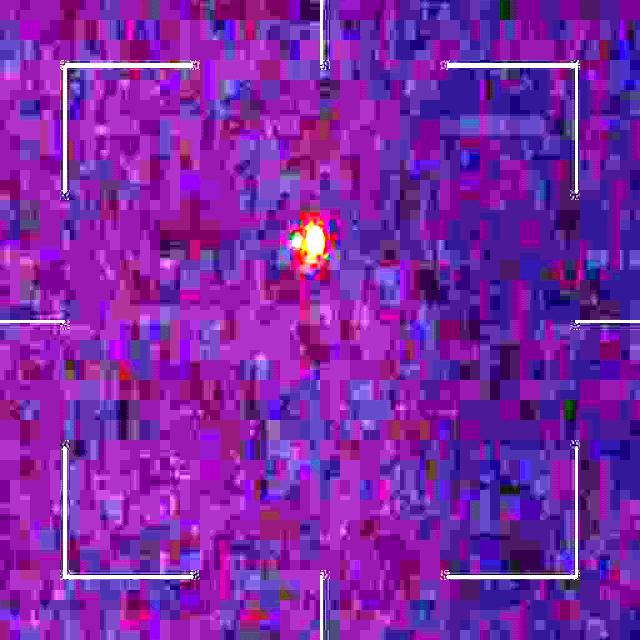bird: (292, 219, 326, 272)
